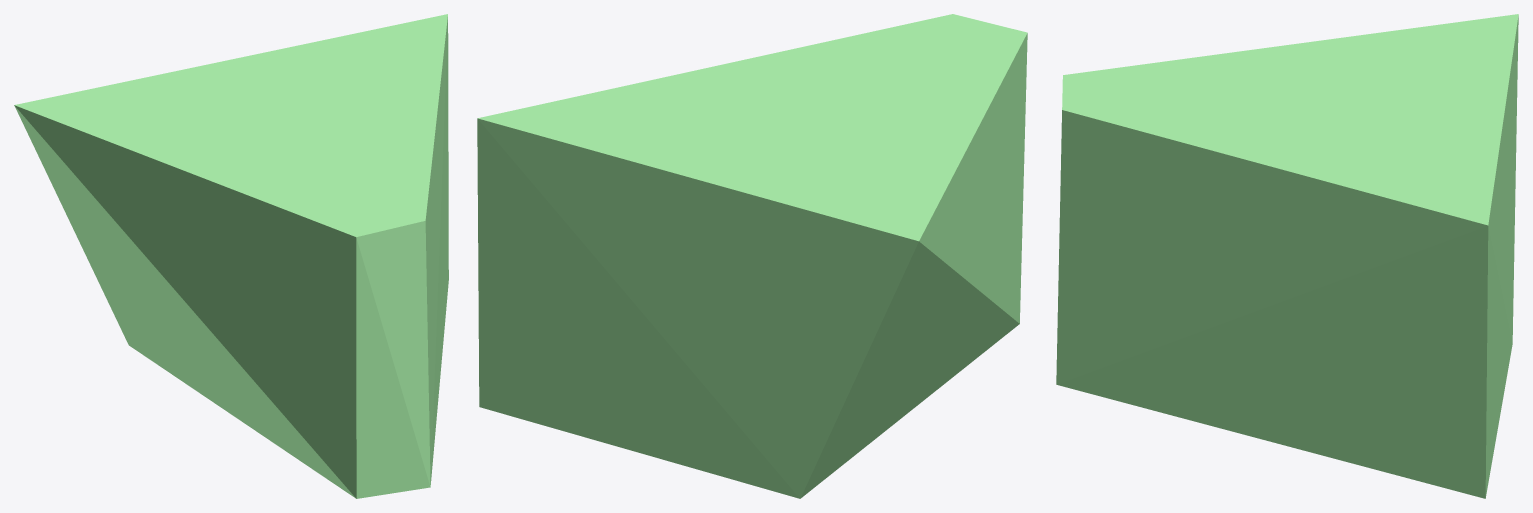
File: dvkr_robot_L2_respondable_PSM2_coll_12.dae
3 renders of one model, left to right at view 1: azimuth 30°, elevation 25°; view 2: azimuth 150°, elevation 25°; view 3: azimuth 270°, elevation 25°, orthographic. The views are drawn at different scales.
Parts seen in each view (by area): view 1: Node_0000023514CD9290; view 2: Node_0000023514CD9290; view 3: Node_0000023514CD9290.
Part boxes in pixels (<box>): Node_0000023514CD9290: <box>14,14,448,498</box>; Node_0000023514CD9290: <box>477,14,1027,498</box>; Node_0000023514CD9290: <box>1056,14,1518,498</box>.
Size of the model in its own units: 0.0299 by 0.0181 by 0.0277.
